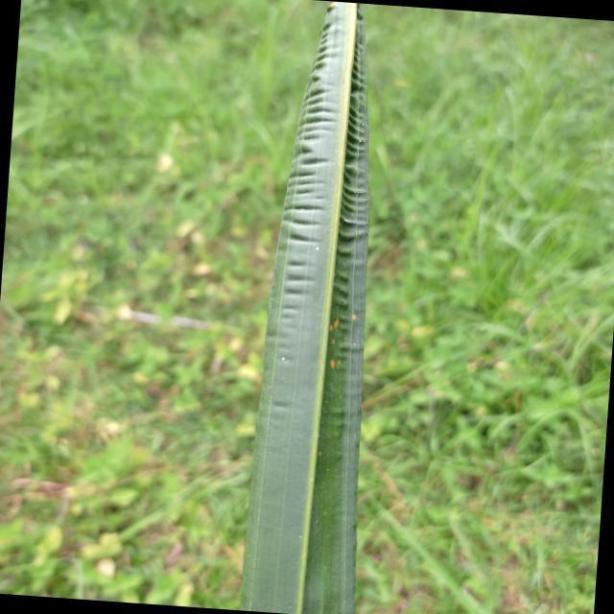Boron: (243, 0, 365, 614)
